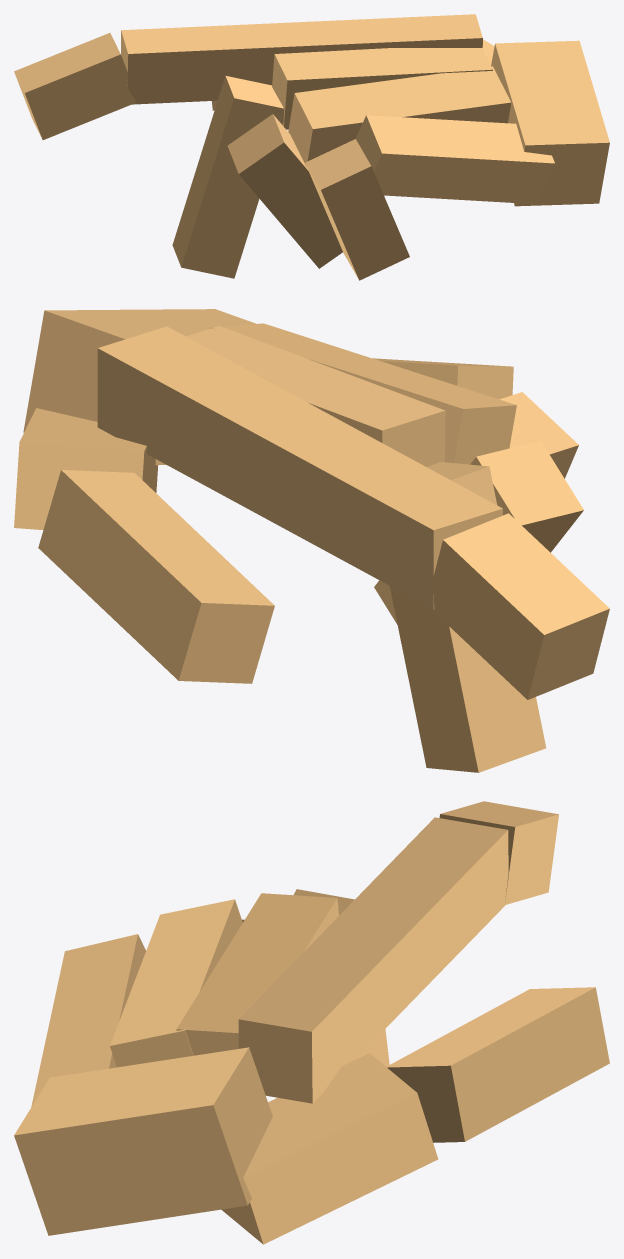
Rendered from scene_xn0kiJtpPU.glb.
3 renders of one model, top to bottom at view 1: azimuth 30°, elevation 25°; view 2: azimuth 150°, elevation 25°; view 3: azimuth 270°, elevation 25°, orthographic. The views are drawn at different scales.
Visible parts, largest first — view 1: group1398897958; view 2: group1398897958; view 3: group1398897958.
Boxes of the visible parts, x1,y1,x2,y2 form: group1398897958: (14, 14, 609, 280); group1398897958: (14, 309, 609, 772); group1398897958: (14, 801, 609, 1244).
Size of the model in its own units: 0.2973 by 0.125 by 0.2347.
